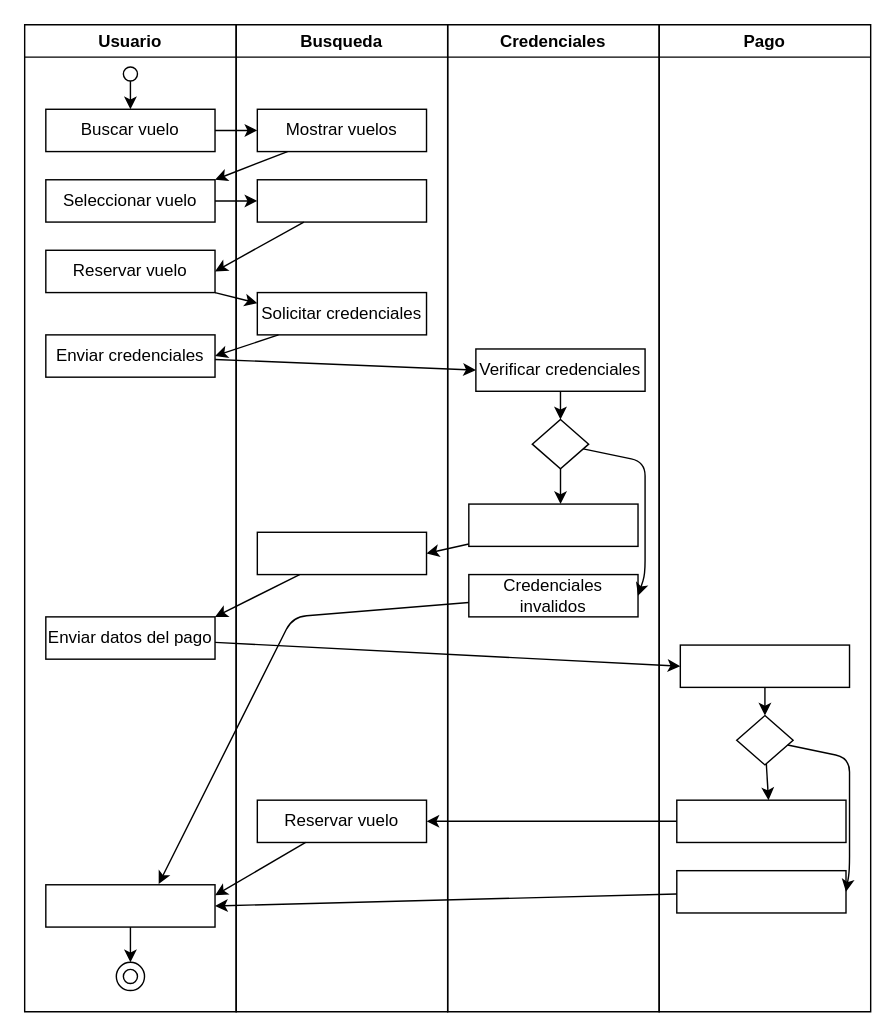
The diagram is 895 pixels wide and 1036 high, and some of its shapes have lost their labels. Here are the shapes that lost their labels. From the top down, the box of each, then its label:
(256, 178, 427, 222): Confirmar disponibilidad
(467, 503, 638, 546): Credenciales validos
(256, 531, 427, 575): Solicitar datos del pago
(679, 644, 850, 687): Verificar datos del pago
(675, 799, 846, 842): Confirmar pago
(44, 883, 215, 927): Finalizar session
(675, 869, 846, 913): Denegar pago
